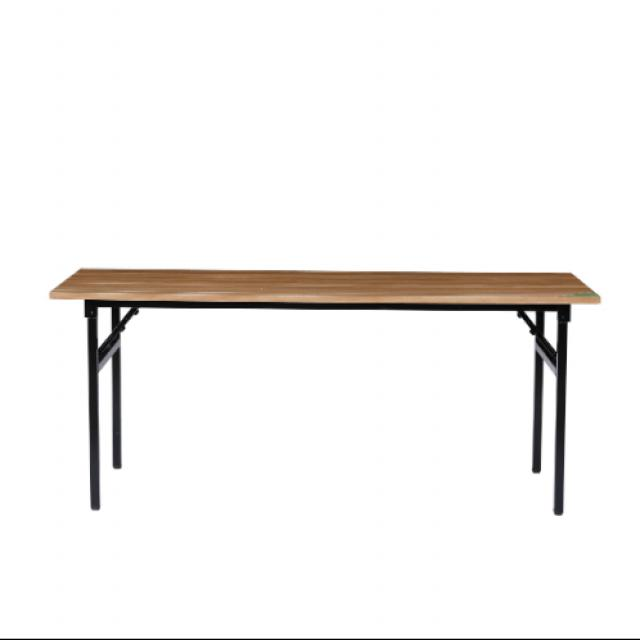table: (40, 245, 619, 538)
